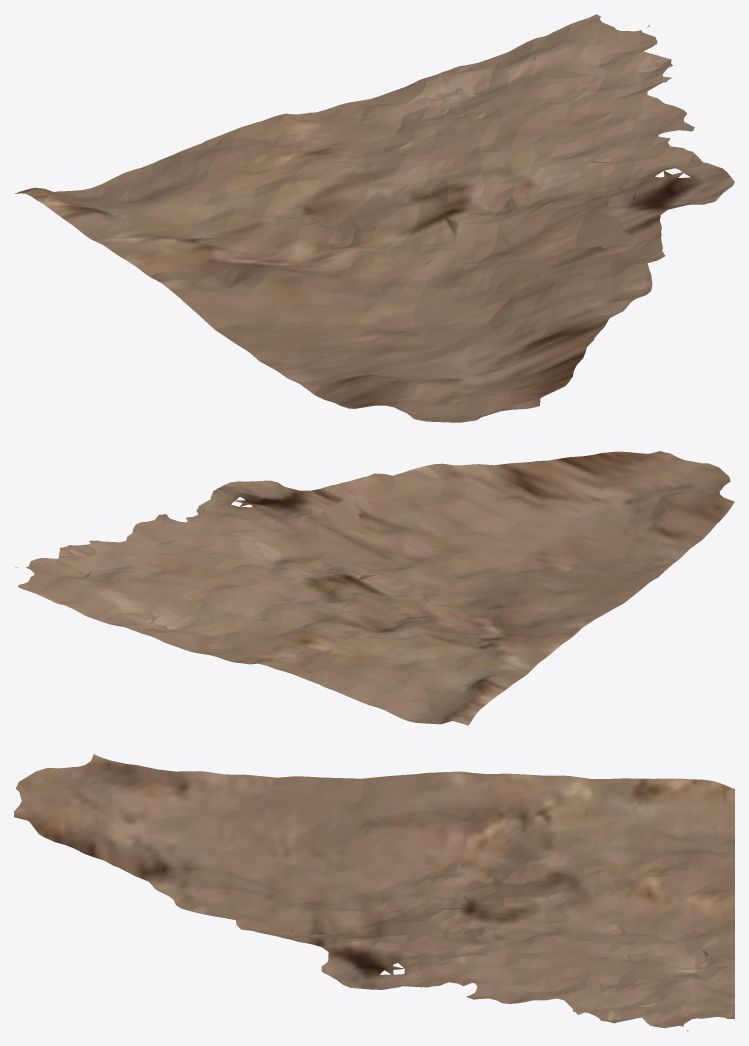
3 views of the same model, one above another, from view 1: azimuth 30°, elevation 25°; view 2: azimuth 150°, elevation 25°; view 3: azimuth 270°, elevation 25° (orthographic). The views are drawn at different scales.
Bounding box in the file's own units: 0.9525 × 0.0756 × 1.04.
2 materials, 2 textured.
